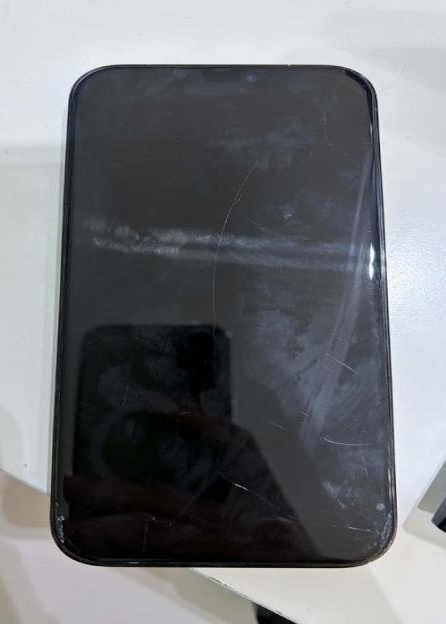scratch: (315, 520, 392, 536), (320, 347, 361, 375), (205, 262, 220, 334), (323, 477, 354, 510), (47, 501, 68, 545), (324, 433, 378, 450), (215, 193, 239, 220), (238, 161, 259, 190), (365, 539, 394, 556), (267, 413, 290, 434), (279, 513, 309, 526), (210, 228, 225, 251), (296, 409, 313, 424), (372, 501, 391, 512), (233, 480, 248, 492), (128, 559, 143, 568)
